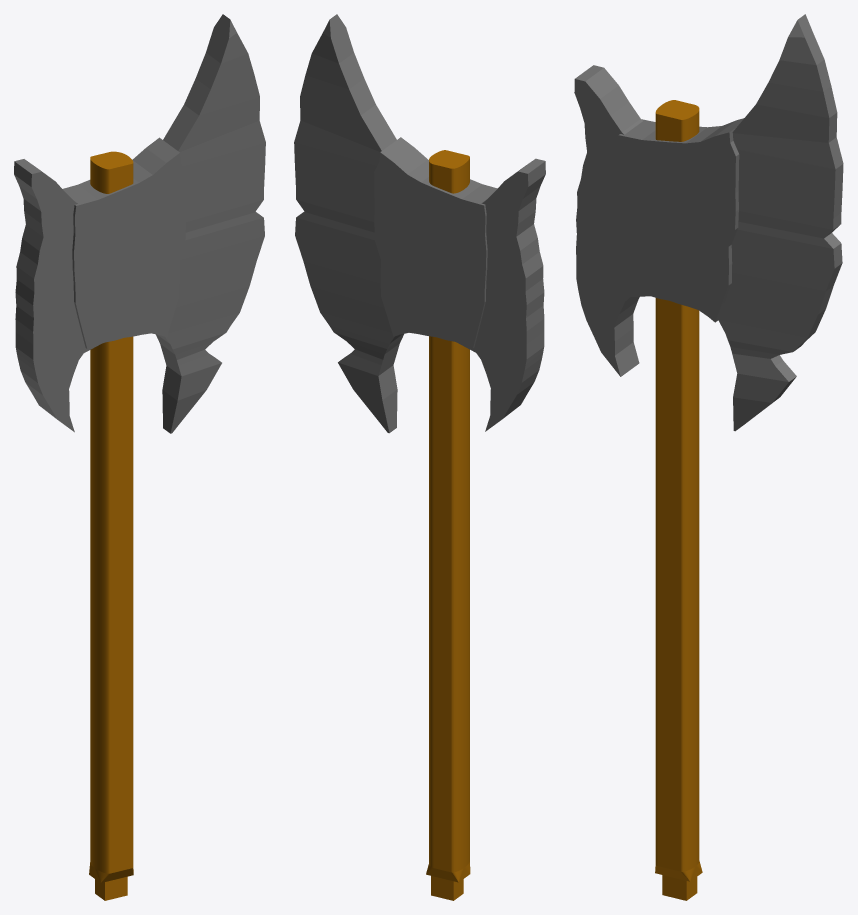
The model's file is AXE.fbx.
The picture shows the model from 3 angles, left to right: view 1: azimuth 30°, elevation 25°; view 2: azimuth 150°, elevation 25°; view 3: azimuth 330°, elevation 25°; orthographic projection. The views are drawn at different scales.
Parts seen in each view (by area): view 1: Cube.003, Cube, Cube.001, Cube.004, Cube.002; view 2: Cube.003, Cube, Cube.001, Cube.004, Cube.002; view 3: Cube.003, Cube, Cube.001, Cube.004, Cube.002.
Boxes of the visible parts, box(x1,y1,x2,y2) form: Cube.003: box(156, 14, 265, 433); Cube: box(89, 151, 133, 882); Cube.001: box(63, 137, 186, 348); Cube.004: box(14, 159, 100, 432); Cube.002: box(95, 876, 127, 900); Cube.003: box(294, 14, 403, 433); Cube: box(426, 150, 470, 882); Cube.001: box(374, 137, 497, 348); Cube.004: box(457, 158, 545, 431); Cube.002: box(431, 876, 463, 900); Cube.003: box(718, 14, 843, 431); Cube: box(655, 100, 702, 881); Cube.001: box(616, 118, 743, 322); Cube.004: box(574, 65, 649, 376); Cube.002: box(662, 875, 697, 900).
Bounding box in the file's own units: 11.42 × 259 × 76.37.
